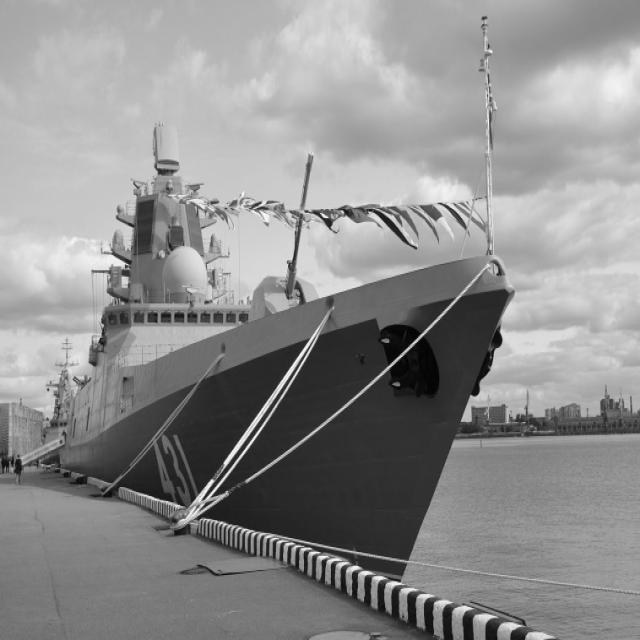Fragata: (64, 116, 521, 624)
